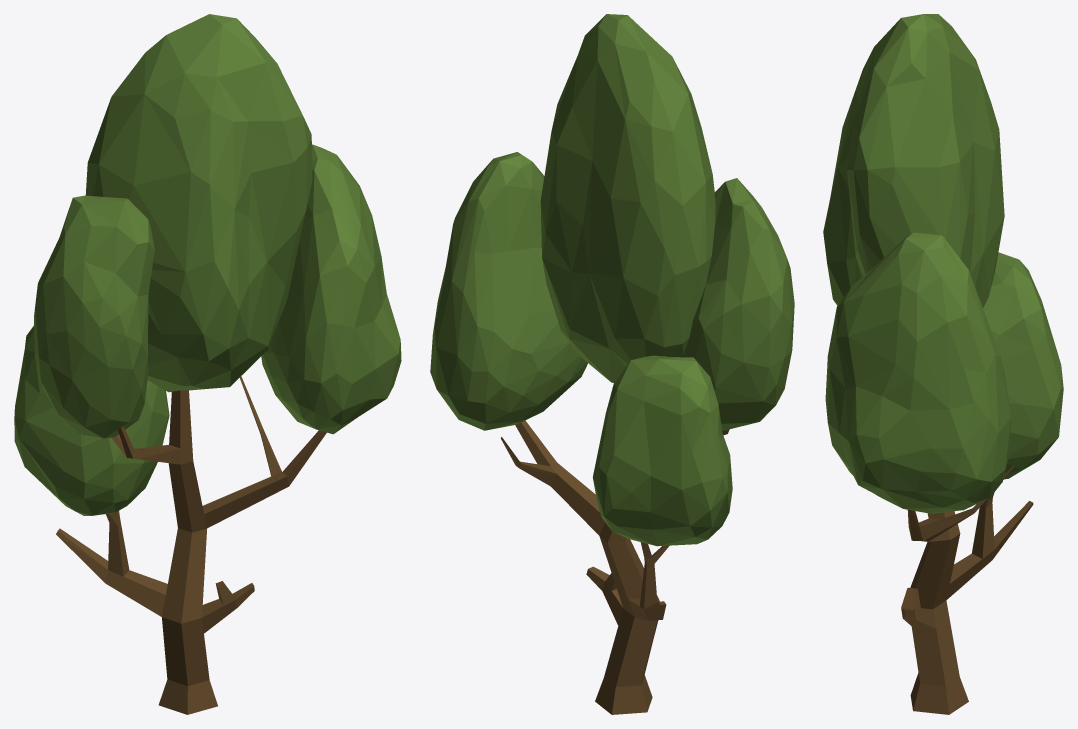
The model's file is Tree_01.fbx.
3 renders of one model, left to right at view 1: azimuth 30°, elevation 25°; view 2: azimuth 150°, elevation 25°; view 3: azimuth 270°, elevation 25°, orthographic. The views are drawn at different scales.
Parts seen in each view (by area): view 1: Tree_01; view 2: Tree_01; view 3: Tree_01.
Boxes of the visible parts, x1=… form: Tree_01: x1=14, y1=14, x2=401, y2=714; Tree_01: x1=430, y1=14, x2=794, y2=714; Tree_01: x1=823, y1=14, x2=1063, y2=714.
Bounding box in the file's own units: 391 × 755 × 237.
